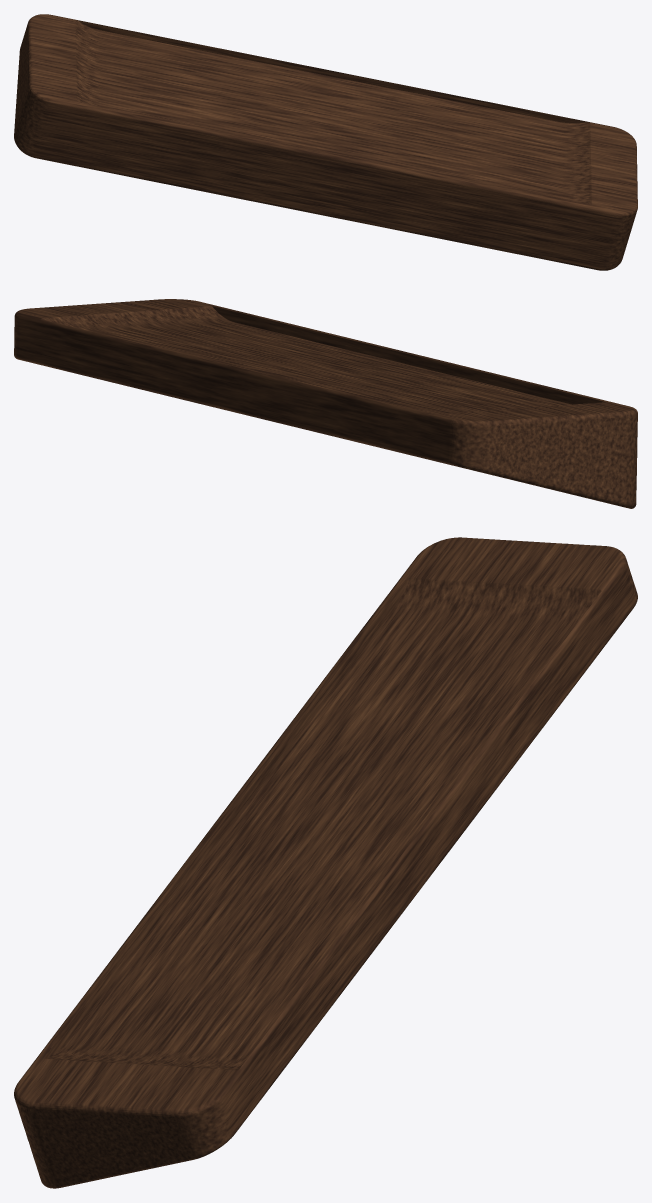
File: tilt_base_15deg.glb
3 renders of one model, top to bottom at view 1: azimuth 30°, elevation 25°; view 2: azimuth 150°, elevation 25°; view 3: azimuth 270°, elevation 25°, orthographic. The views are drawn at different scales.
Parts seen in each view (by area): view 1: tilt_base_15deg.001; view 2: tilt_base_15deg.001; view 3: tilt_base_15deg.001.
Boxes of the visible parts, x1,y1,x2,y2 form: tilt_base_15deg.001: [14, 14, 637, 270]; tilt_base_15deg.001: [14, 299, 637, 508]; tilt_base_15deg.001: [14, 537, 637, 1188].
Size of the model in its own units: 1.94 by 0.7533 by 1.27.
Materials: 1 (1 with a texture image).
